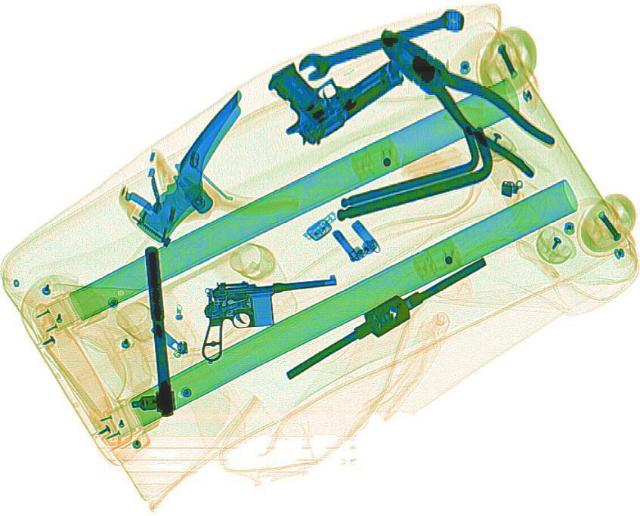Gun: (240, 22, 414, 149), (188, 271, 346, 361)
Pliers: (358, 18, 572, 177)
Wrench: (294, 4, 468, 79)
